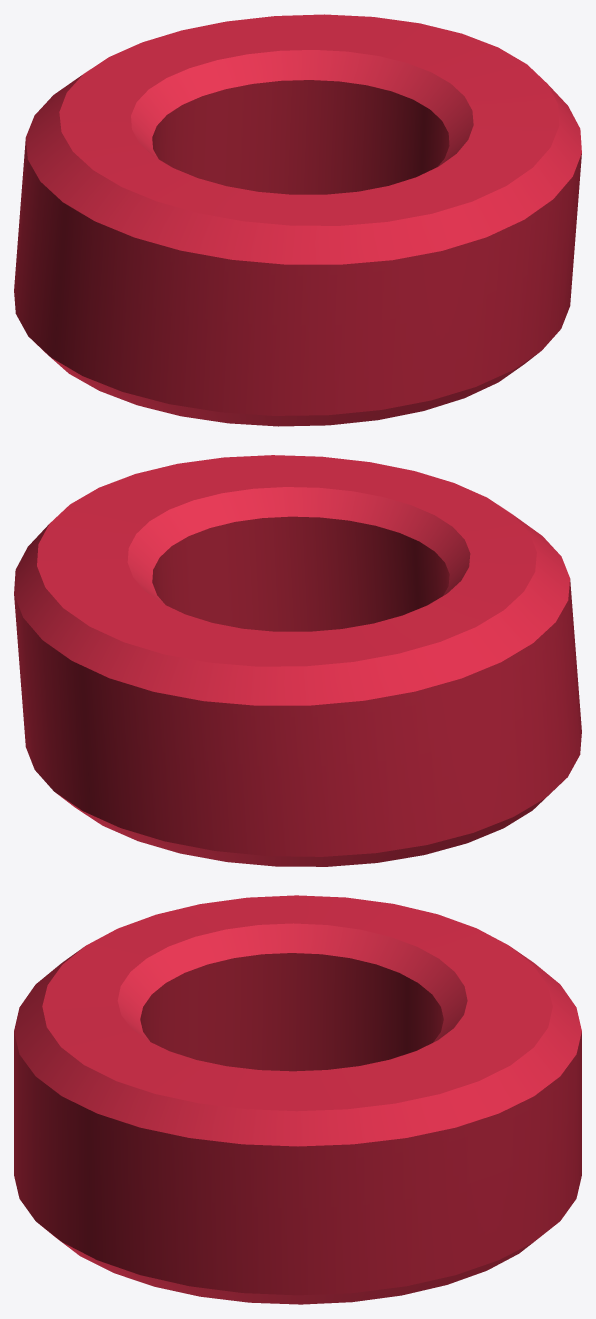
File: WormResource.fbx
3 renders of one model, top to bottom at view 1: azimuth 30°, elevation 25°; view 2: azimuth 150°, elevation 25°; view 3: azimuth 270°, elevation 25°, orthographic.
Parts seen in each view (by area): view 1: WormResource; view 2: WormResource; view 3: WormResource.
Boxes of the visible parts, x1,y1,x2,y2 form: WormResource: [14, 14, 581, 426]; WormResource: [14, 455, 581, 866]; WormResource: [14, 895, 581, 1304].
Size of the model in its own units: 0.4663 by 0.177 by 0.4549.
